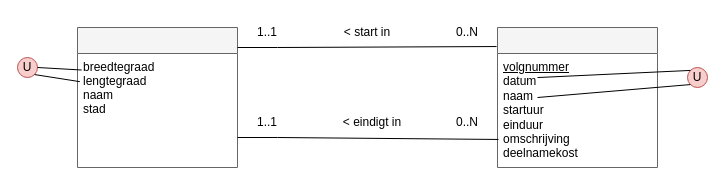
Image size: 725x187. Some labels were removed from this diagram. Here are the shapes that lost their labels. From the top down, the box of each, then its label:
(76, 26, 238, 168): Locatie
(496, 26, 658, 168): Activiteit
